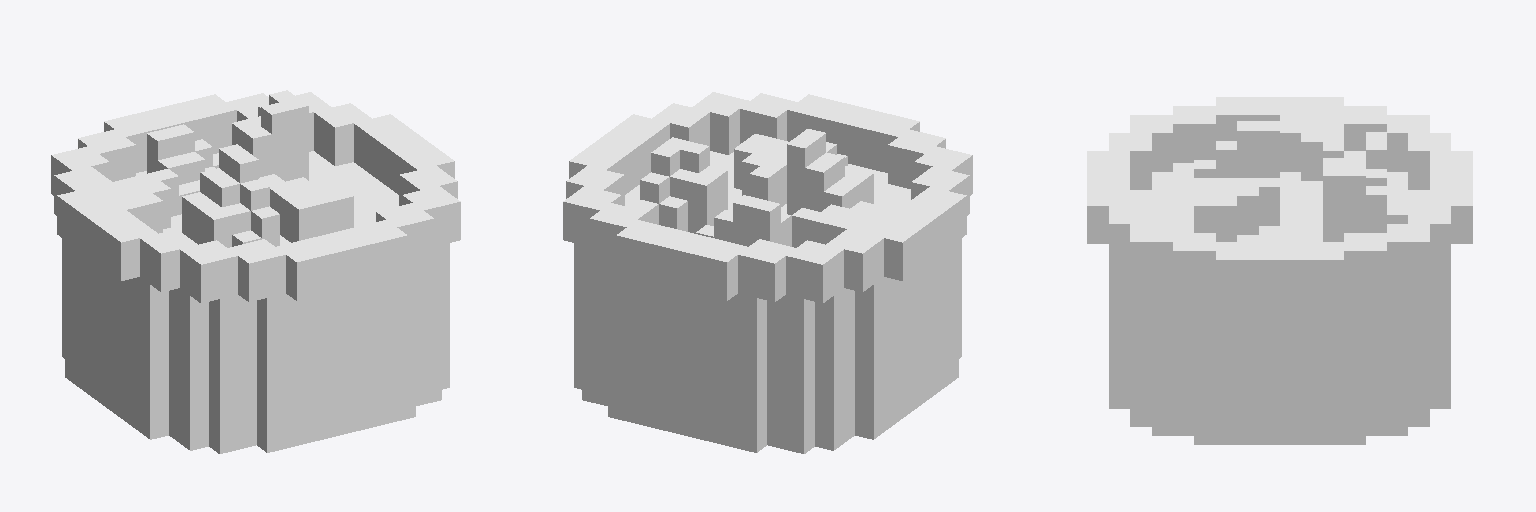
The model's file is container_potato.obj.
3 views of the same model, side by side, from view 1: azimuth 30°, elevation 25°; view 2: azimuth 150°, elevation 25°; view 3: azimuth 270°, elevation 25° (orthographic).
Parts seen in each view (by area): view 1: object 1; view 2: object 1; view 3: object 1.
Part boxes in pixels (x1,y1,x2,y2): object 1: (51,90,460,453); object 1: (563,92,972,453); object 1: (1087,97,1472,444).
Size of the model in its own units: 1.8 by 1.2 by 1.8.